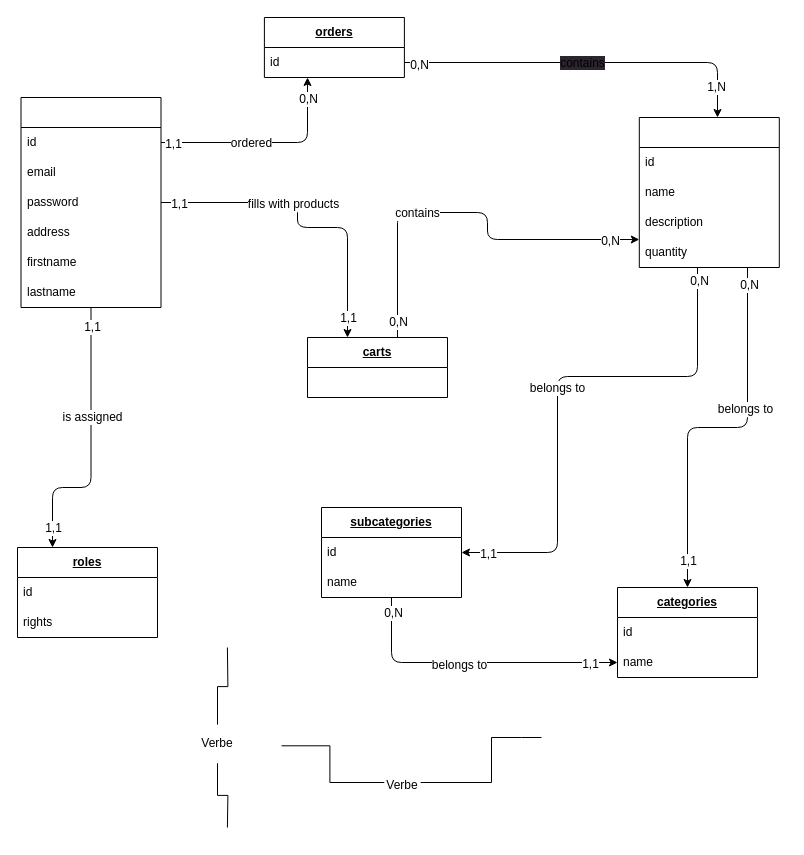
This 804x855 diagram has some shape labels left out. Each missing label, with the box of its shape:
products: (638, 116, 779, 268)
users: (20, 96, 161, 308)
